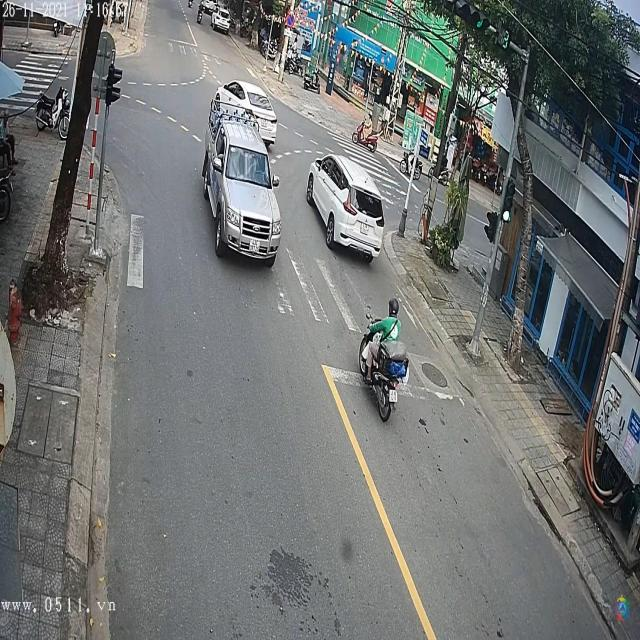car: (202, 123, 282, 270), (305, 154, 387, 268), (216, 80, 280, 152)
motorcycle: (357, 307, 403, 425)
